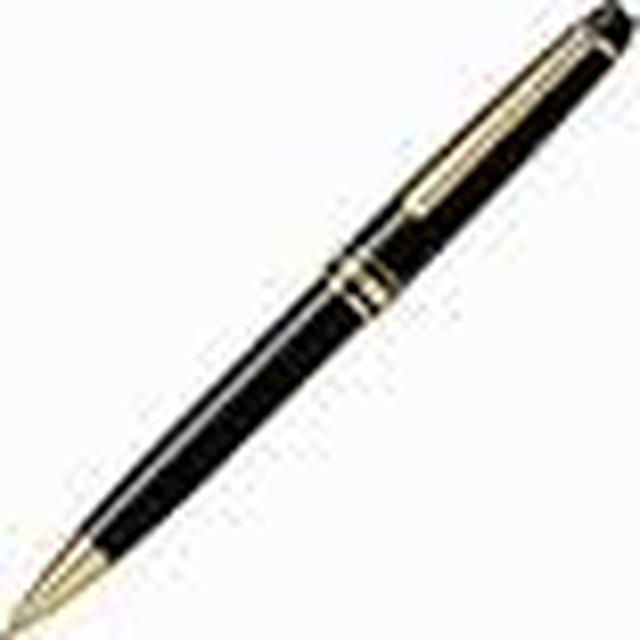mouse: (0, 4, 640, 640)
